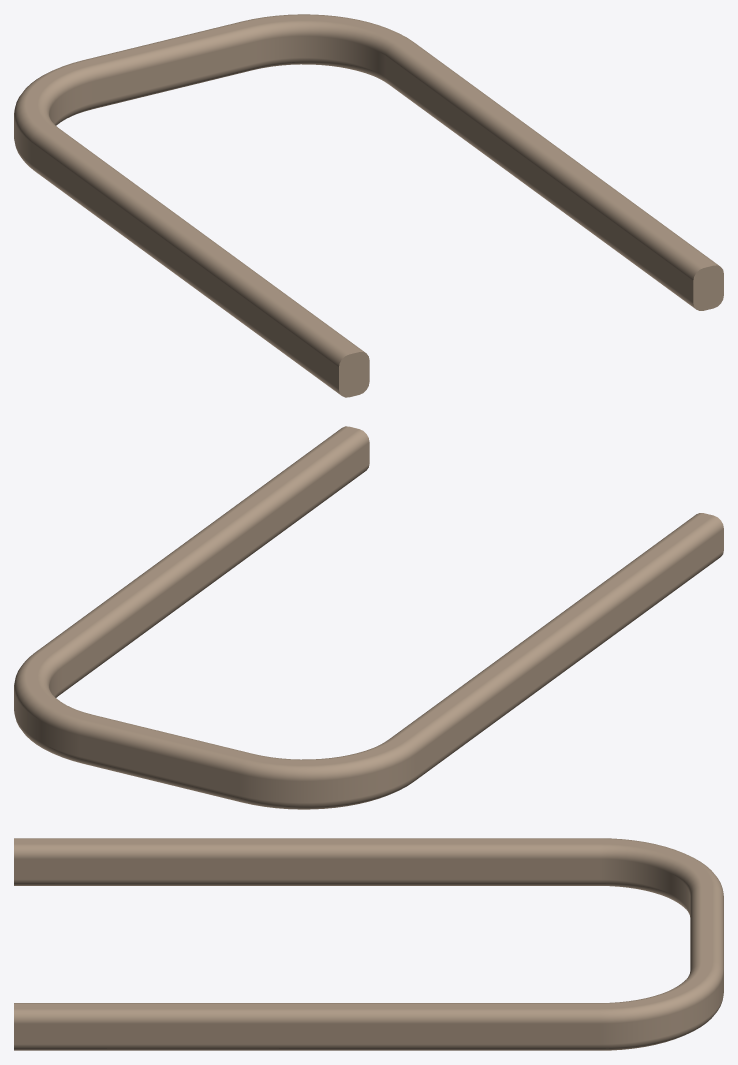
The model's file is part 5 spacer.fbx.
3 views of the same model, one above another, from view 1: azimuth 30°, elevation 25°; view 2: azimuth 150°, elevation 25°; view 3: azimuth 270°, elevation 25° (orthographic). The views are drawn at different scales.
Visible parts, largest first — view 1: Default; view 2: Default; view 3: Default.
Boxes of the visible parts, x1,y1,x2,y2 form: Default: (14,14,723,397); Default: (14,426,723,809); Default: (14,838,723,1050).
Size of the model in its own units: 4.18 by 0.445 by 7.01.
